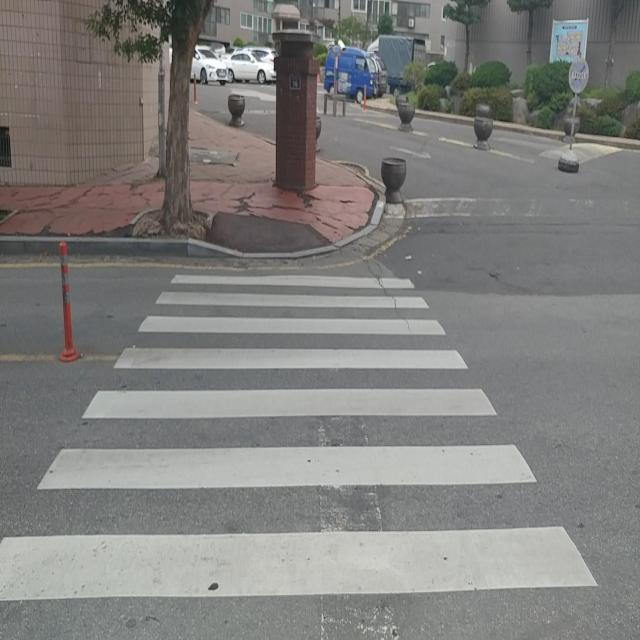횡단보도: (0, 274, 598, 604)
